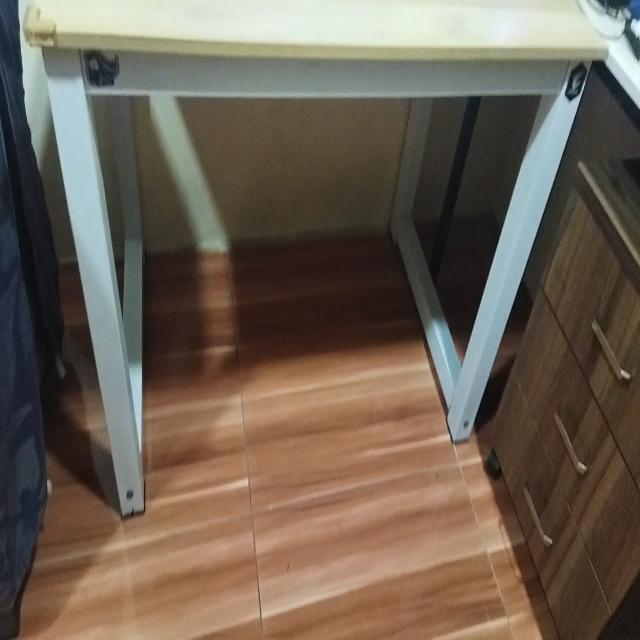table: (15, 0, 591, 497)
